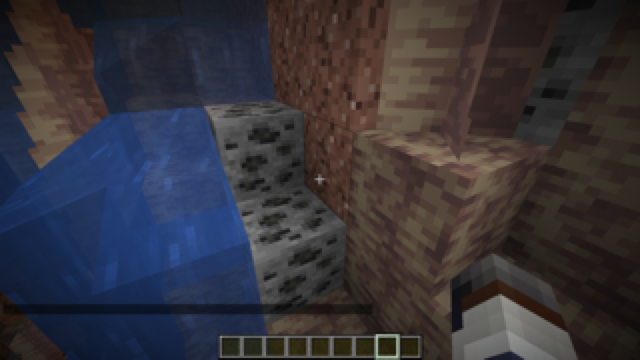coal: (199, 107, 346, 311)
